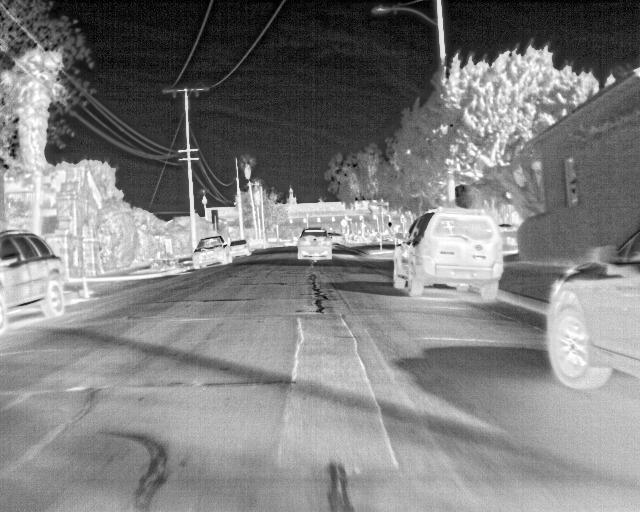car: (544, 222, 639, 392), (391, 209, 502, 297), (0, 227, 67, 325), (192, 234, 232, 271), (295, 227, 331, 262), (502, 222, 517, 253), (230, 239, 248, 256), (285, 236, 297, 248)
